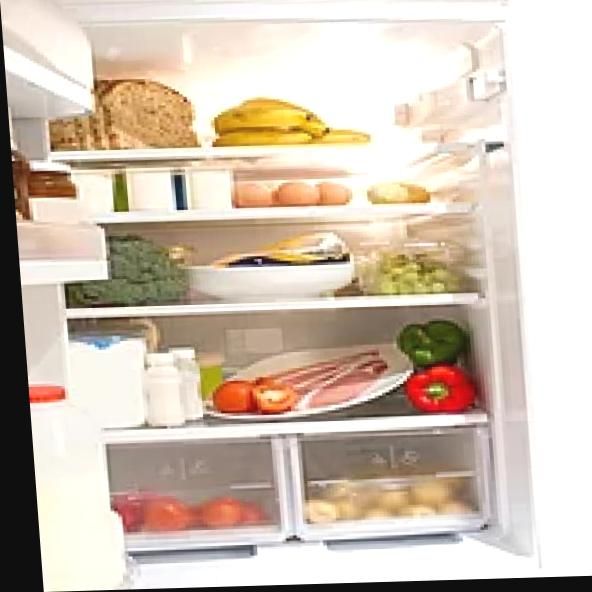bananas: (206, 89, 367, 154)
bread: (46, 45, 206, 168)
broccoli: (59, 219, 201, 309)
eggs: (214, 160, 365, 222)
milk: (28, 376, 131, 592)
mushroom: (293, 455, 486, 532)
peppers: (395, 314, 488, 425)
tomatoes: (104, 473, 289, 534), (203, 357, 307, 442)
